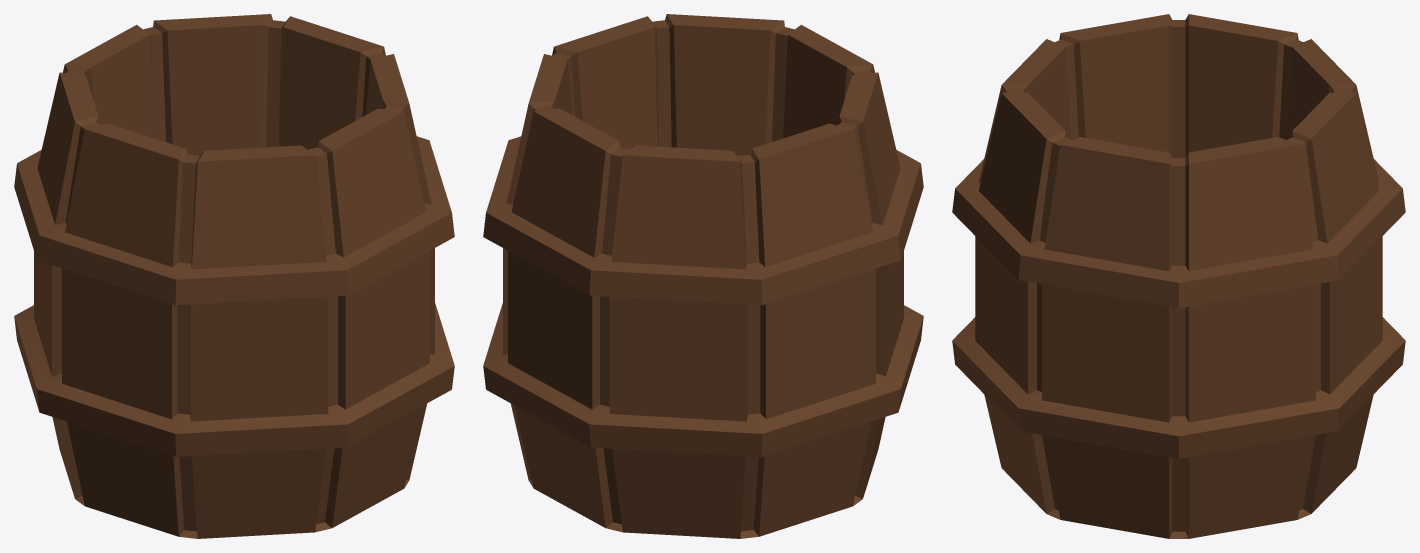
The model's file is a_z1_barrel_s.fbx.
The picture shows the model from 3 angles, left to right: view 1: azimuth 30°, elevation 25°; view 2: azimuth 150°, elevation 25°; view 3: azimuth 270°, elevation 25°; orthographic projection.
Parts seen in each view (by area): view 1: a_z1_barrel_s; view 2: a_z1_barrel_s; view 3: a_z1_barrel_s.
Boxes of the visible parts, <box> form: a_z1_barrel_s: <box>14,14,454,538</box>; a_z1_barrel_s: <box>483,14,923,538</box>; a_z1_barrel_s: <box>952,14,1405,538</box>.
Bounding box in the file's own units: 67.34 × 61.44 × 67.34.
